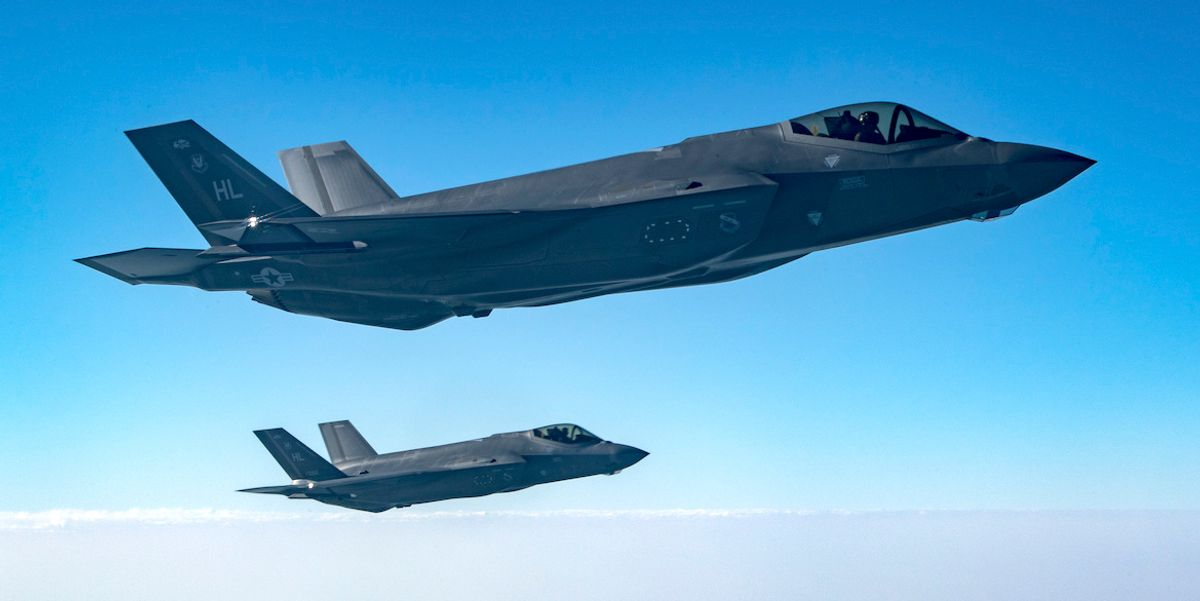F-35 Lightning: (62, 40, 1109, 339), (192, 373, 707, 550)
